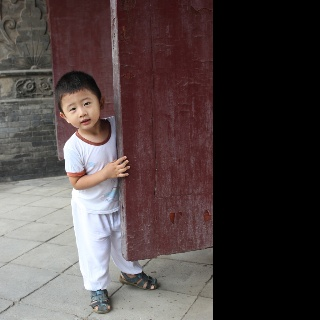without_mask: (62, 88, 99, 130)
